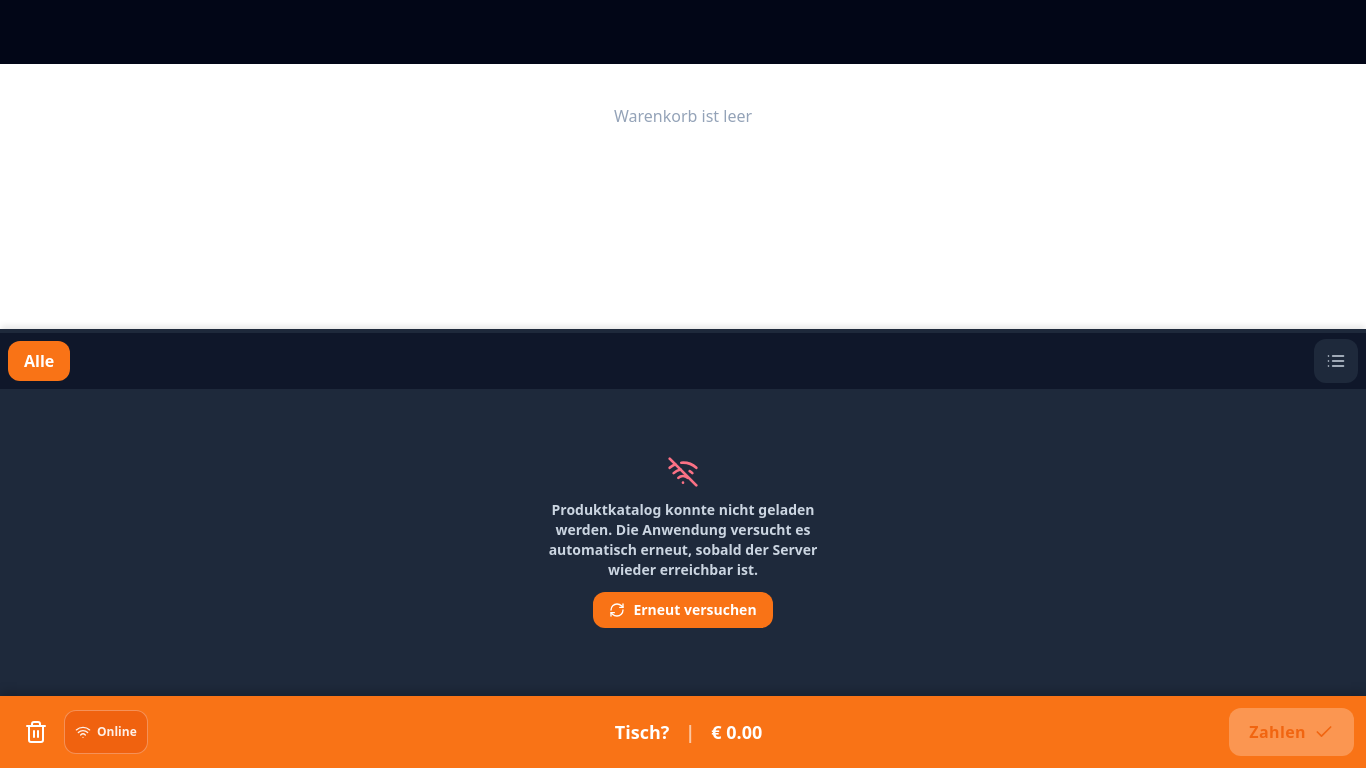
Test: Produktkatalog nachladen nach Serverausfall (Issue #90) › füllt der Katalog nach einem erfolgreichen Zweitversuch von Hand, der Hinweis verschwindet
The width and height of the screenshot is (1366, 768).
Check: the text "Produktkatalog konnte nicht geladen werden" is shown, box [549,500,817,579]
Step 1. Click the button "Erneut versuchen" → click(683, 610), box [593,592,773,628]
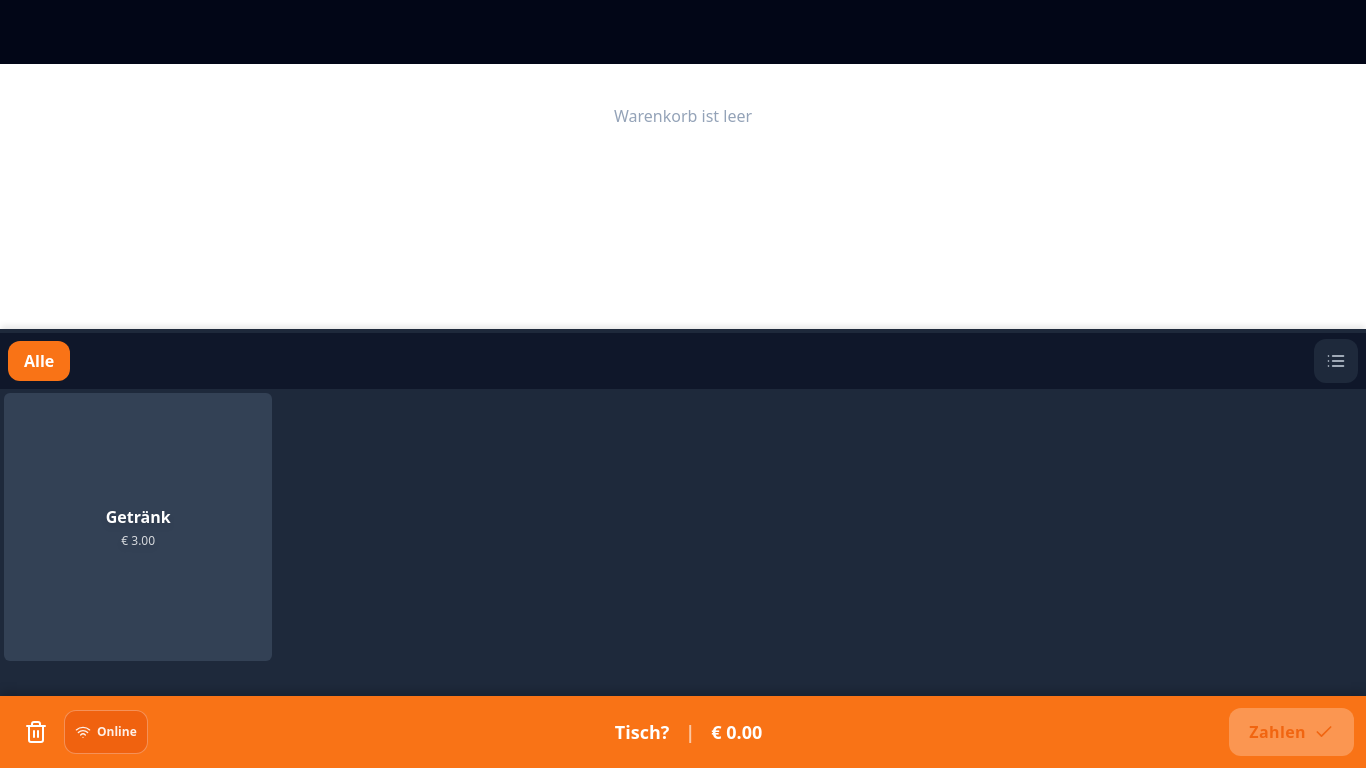
Check: the text "Getränk" is shown, box [106,505,171,529]
Check: the text "Produktkatalog konnte nicht geladen werden" is gone
